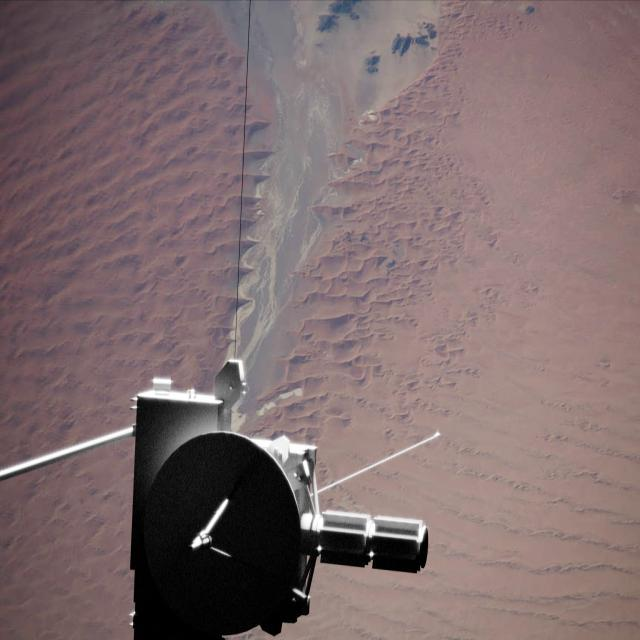satellite: (10, 353, 454, 640)
